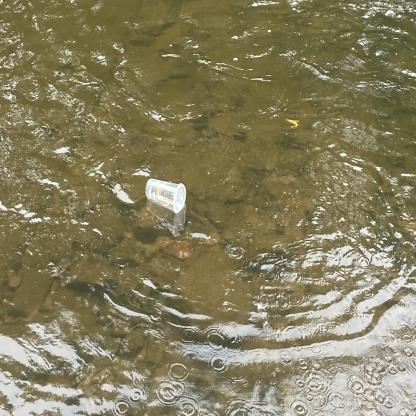trash: (140, 175, 190, 218)
